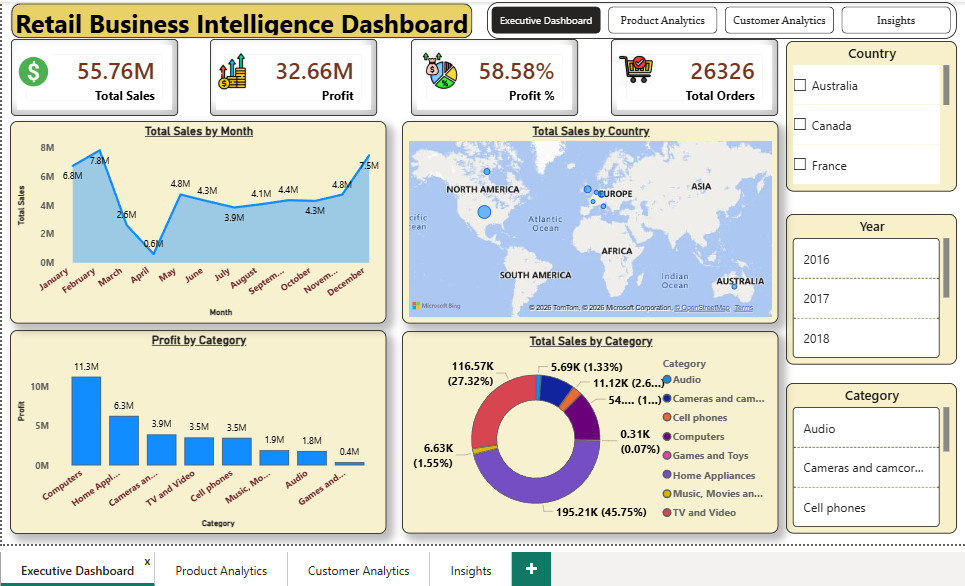

Layout of this report page (visuals, bound fields, positions):
{"tool":"powerbi","page":{"name":"Executive Dashboard","canvas":[1280,720],"ordinal":0},"visuals":[{"type":"cardVisual","fields":{"Data":["Measures (2).Total Sales"]},"box":[12,49.2,222,102],"z":0,"group":"g1"},{"type":"cardVisual","fields":{"Data":["Measures (2).Profit"]},"box":[276.9,49.2,222,102],"z":0,"group":"g3"},{"type":"cardVisual","fields":{"Data":["Measures (2).Profit %"]},"box":[543.1,49.2,222,102],"z":0,"group":"g2"},{"type":"cardVisual","fields":{"Data":["Measures (2).Total Orders"]},"box":[809.3,49.8,222.4,102.4],"z":0,"group":"g4"},{"type":"advancedSlicerVisual","title":"Year","fields":{"Values":["Calendar.year"]},"box":[1042,281,226.8,200.5],"z":0},{"type":"image","box":[819.1,58.6,48.2,62.5],"z":1000,"group":"g4"},{"type":"image","box":[557.9,60.4,48.2,62.9],"z":1000,"group":"g2"},{"type":"image","box":[17.3,60.8,49.4,62.6],"z":1000,"group":"g1"},{"type":"image","box":[281.8,60.8,48.4,62.1],"z":1000,"group":"g3"},{"type":"advancedSlicerVisual","title":"Category","fields":{"Values":["Products.Category"]},"box":[1042,506.3,226.8,200.5],"z":1000},{"type":"shape","box":[10.2,0,616,49.8],"z":2000},{"type":"listSlicer","title":"Country","fields":{"Values":["Stores.Country"]},"box":[1041.8,52.2,226.9,200],"z":3000},{"type":"group","id":"g1","title":"Group 1","box":[12,49.2,222,102],"z":4000},{"type":"group","id":"g2","title":"Group 3","box":[543.1,49.2,223.2,102.3],"z":5000},{"type":"group","id":"g3","title":"Group 2","box":[276.9,49.2,223.2,102.3],"z":6000},{"type":"group","id":"g4","title":"Group 4","box":[809.3,49.8,222.4,102.4],"z":7000},{"type":"donutChart","fields":{"Y":["Measures (2).Total Sales"],"Series":["Products.Category"]},"box":[531.2,437.6,500.5,269.3],"z":8000},{"type":"clusteredColumnChart","fields":{"Category":["Products.Category"],"Y":["Measures (2).Profit"]},"box":[10.2,436.1,500.5,270.7],"z":9000},{"type":"lineChart","fields":{"Y":["Measures (2).Total Sales"],"Category":["Calendar.Month"]},"box":[10.2,158,500.5,269.3],"z":10000},{"type":"map","fields":{"Size":["Measures (2).Total Sales"],"Category":["Customers.Country"]},"box":[531.2,158,500.5,269.3],"z":11000},{"type":"pageNavigator","box":[644.6,0,624.3,48.6],"z":11001}]}

Visuals, with their boxes on the page's 1280x720 design canvas (x1, y1, x2, y2). These are canvas units, not pixel positions in the 965x586 screenshot, which may show the page scaled, cropped or inside an application window:
cardVisual - Measures (2).Total Sales: l=12, t=49, r=234, b=151
cardVisual - Measures (2).Profit: l=277, t=49, r=499, b=151
cardVisual - Measures (2).Profit %: l=543, t=49, r=765, b=151
cardVisual - Measures (2).Total Orders: l=809, t=50, r=1032, b=152
"Year" advancedSlicerVisual: l=1042, t=281, r=1269, b=482
image: l=819, t=59, r=867, b=121
image: l=558, t=60, r=606, b=123
image: l=17, t=61, r=67, b=123
image: l=282, t=61, r=330, b=123
"Category" advancedSlicerVisual: l=1042, t=506, r=1269, b=707
shape: l=10, t=0, r=626, b=50
"Country" listSlicer: l=1042, t=52, r=1269, b=252
"Group 1" group: l=12, t=49, r=234, b=151
"Group 3" group: l=543, t=49, r=766, b=152
"Group 2" group: l=277, t=49, r=500, b=152
"Group 4" group: l=809, t=50, r=1032, b=152
donutChart - Measures (2).Total Sales x Products.Category: l=531, t=438, r=1032, b=707
clusteredColumnChart - Products.Category x Measures (2).Profit: l=10, t=436, r=511, b=707
lineChart - Measures (2).Total Sales x Calendar.Month: l=10, t=158, r=511, b=427
map - Measures (2).Total Sales x Customers.Country: l=531, t=158, r=1032, b=427
pageNavigator: l=645, t=0, r=1269, b=49
